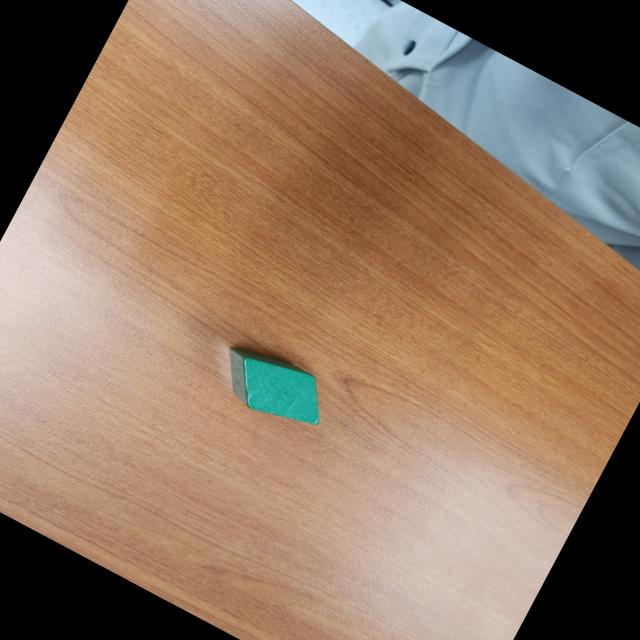green: (206, 333, 338, 441)
